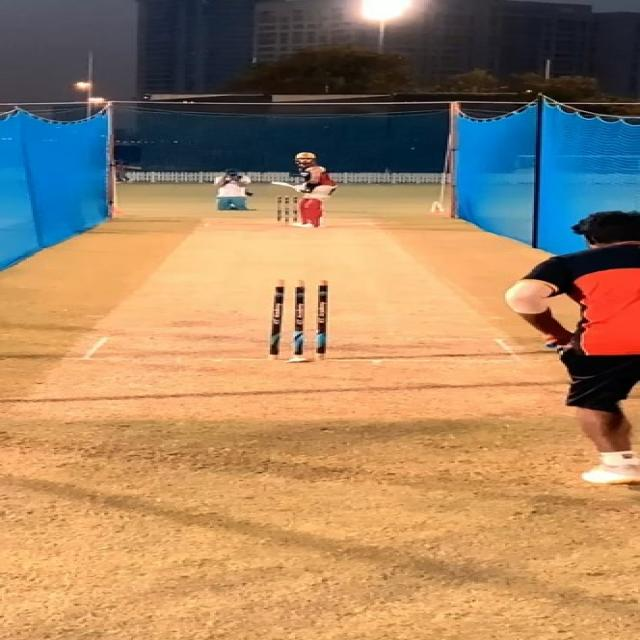batsman: (270, 151, 339, 229)
